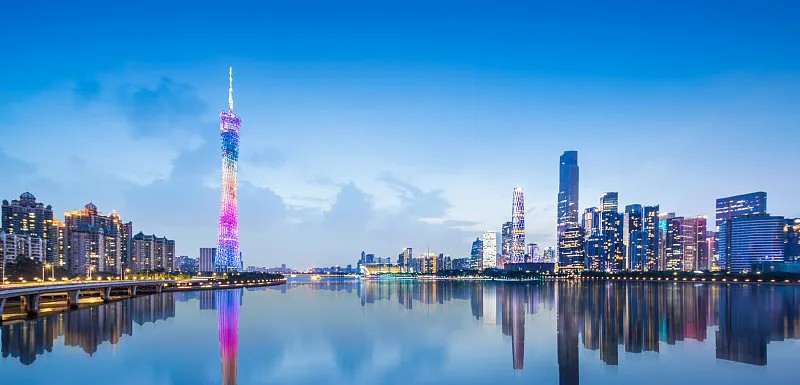Canton: (213, 63, 244, 273)
